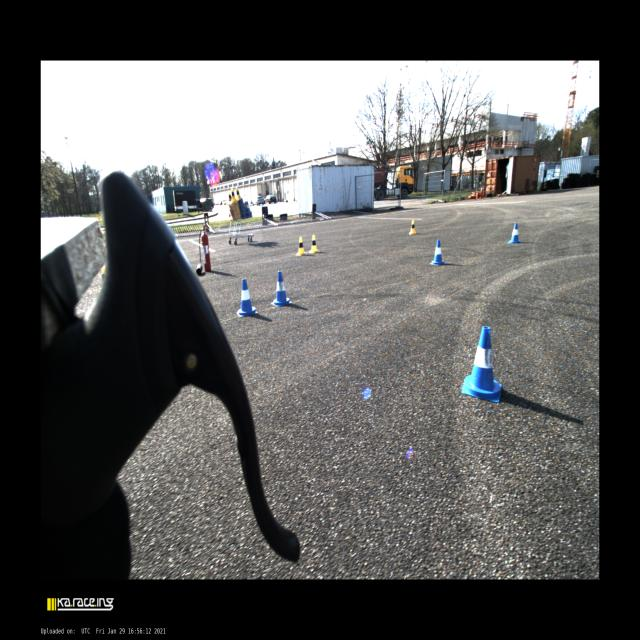blue_cone: (462, 327, 502, 402), (236, 278, 258, 317), (271, 271, 292, 307), (430, 240, 446, 265), (508, 222, 520, 244), (246, 200, 252, 212)
large_orange_cone: (476, 191, 478, 199)
orange_cone: (480, 186, 483, 192)
yellow_cone: (296, 237, 306, 256), (309, 235, 318, 253), (230, 187, 237, 202), (409, 220, 416, 234), (236, 188, 242, 201), (228, 192, 232, 200)
